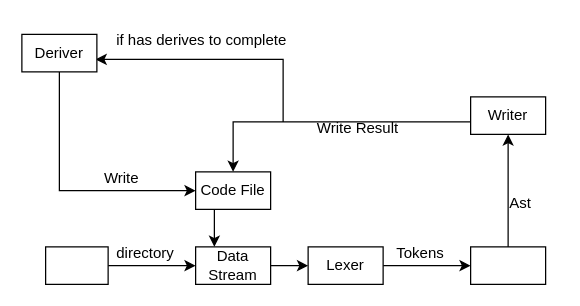
Some shapes in this 580 by 306 pixel diagram are drawn without their labels. The shapes that lost their labels are listed below. From the top down, each one's centre as x and y in pixels, then its label:
the point at 76,265: CLI Args
the point at 507,265: Parser
